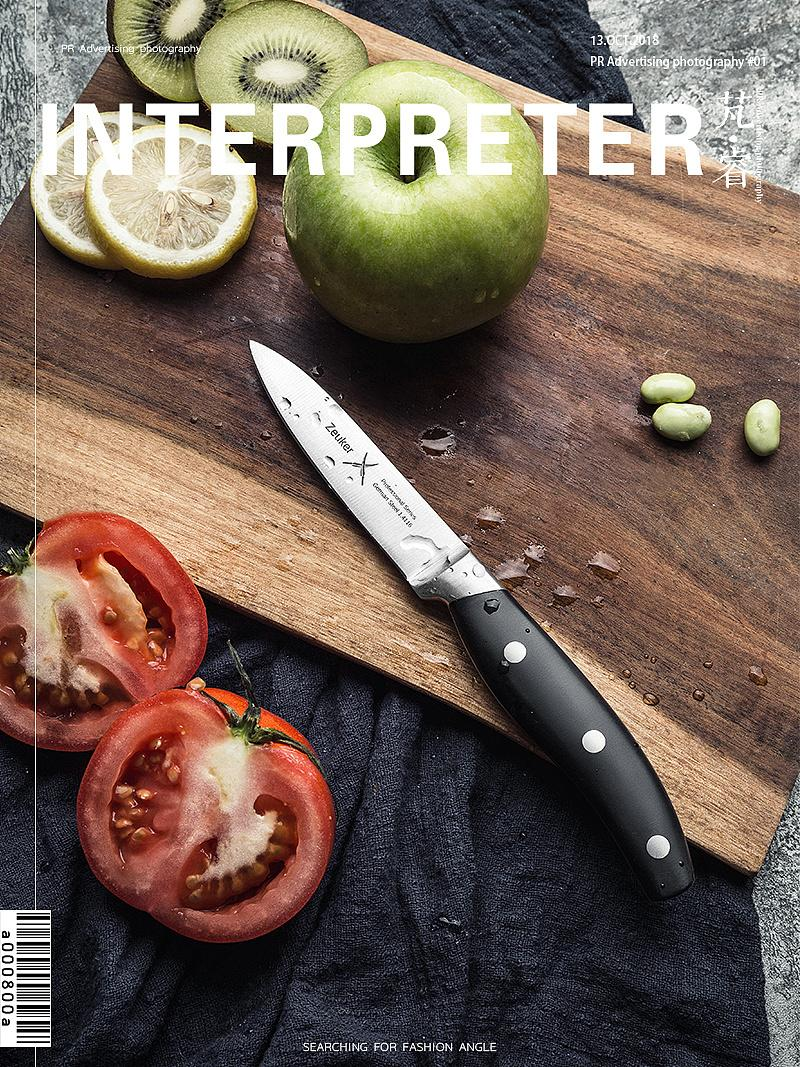knife: (213, 317, 742, 910)
